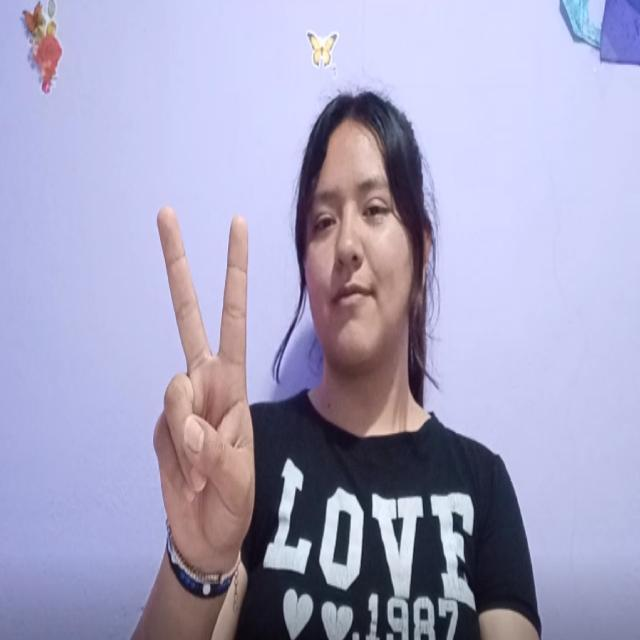V: (118, 184, 265, 580)
